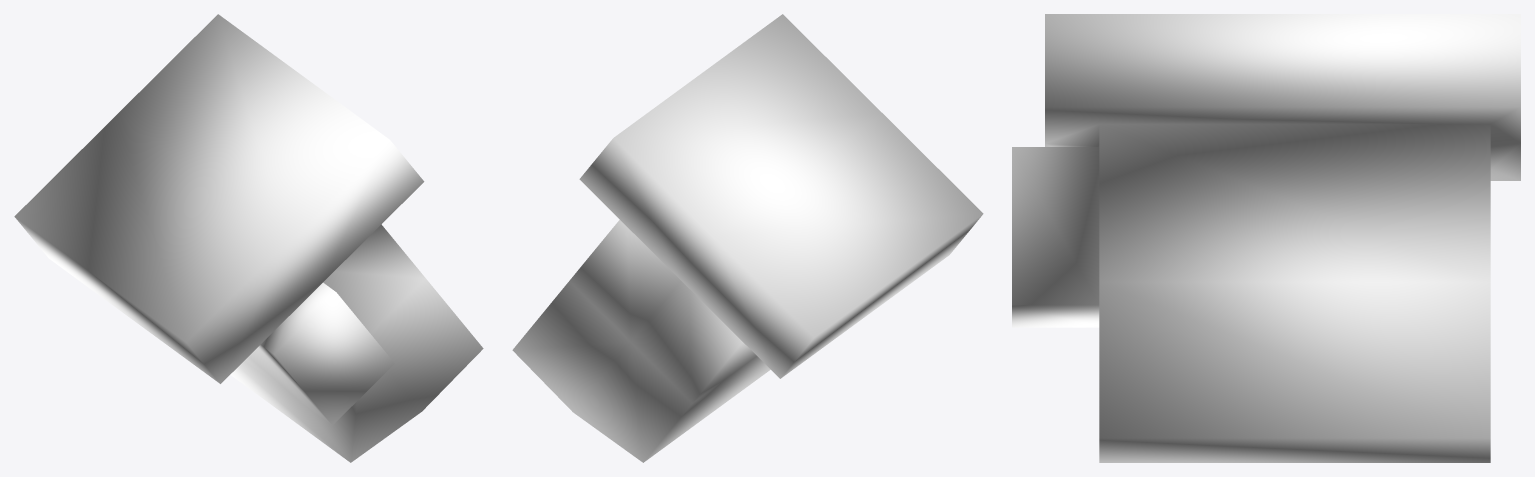
File: float_L_arm.obj
3 renders of one model, left to right at view 1: azimuth 30°, elevation 25°; view 2: azimuth 150°, elevation 25°; view 3: azimuth 270°, elevation 25°, orthographic. The views are drawn at different scales.
Visible parts, largest first — view 1: 立方体.001; view 2: 立方体.001; view 3: 立方体.001.
Boxes of the visible parts, x1,y1,x2,y2 form: 立方体.001: (14, 14, 483, 462); 立方体.001: (512, 14, 983, 462); 立方体.001: (1012, 14, 1520, 462).
Bounding box in the file's own units: 0.5597 × 0.5613 × 0.5615.
1 material, 1 textured.
